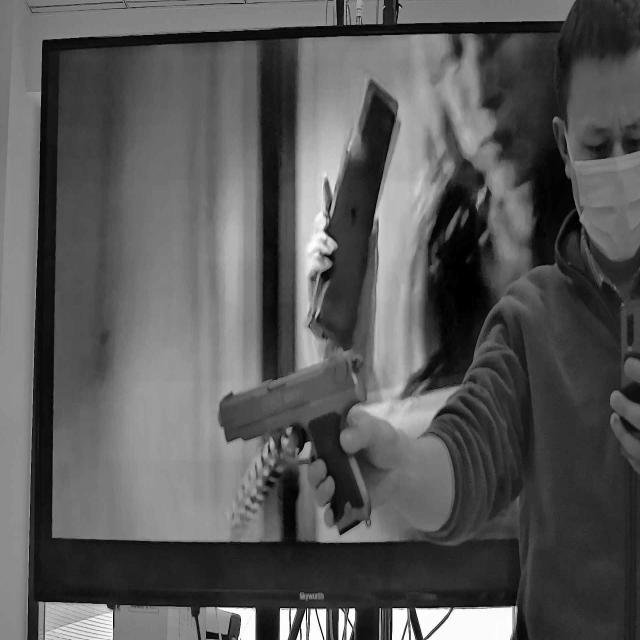Hand-Gun: (181, 260, 404, 617)
